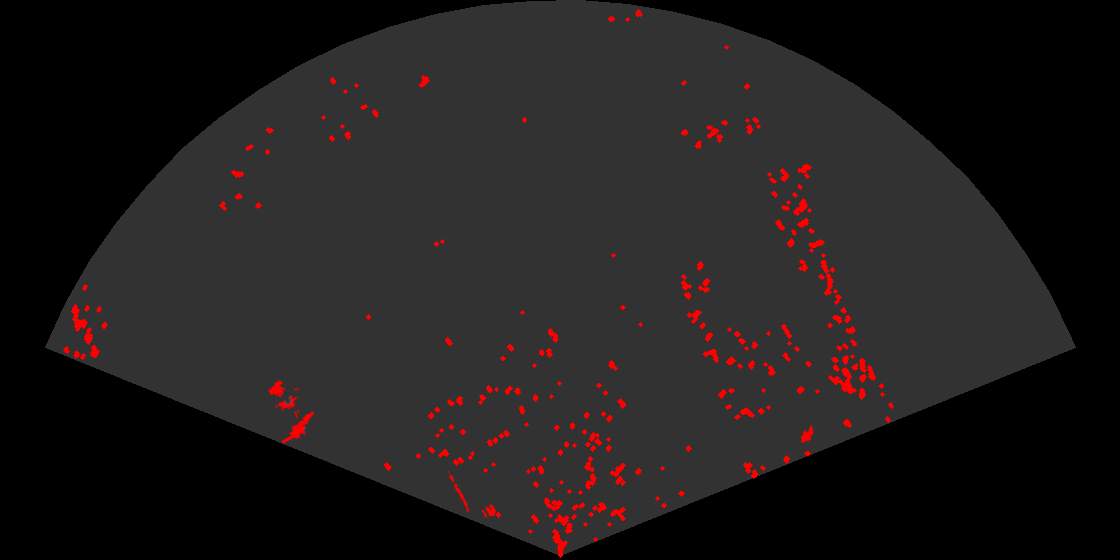AUV: (799, 423, 816, 445)
ball: (480, 502, 498, 519)
cage: (267, 378, 299, 418)
chain: (445, 471, 472, 514)
frogman: (282, 408, 322, 444)
